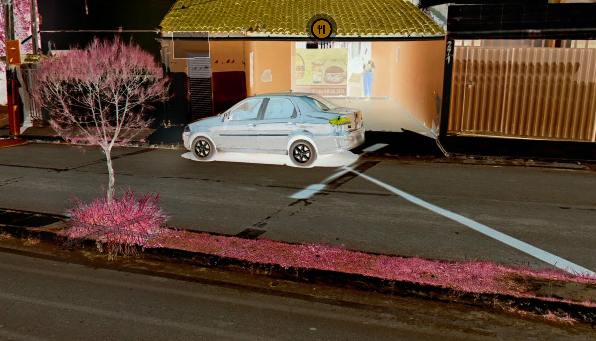car: (177, 89, 370, 173)
